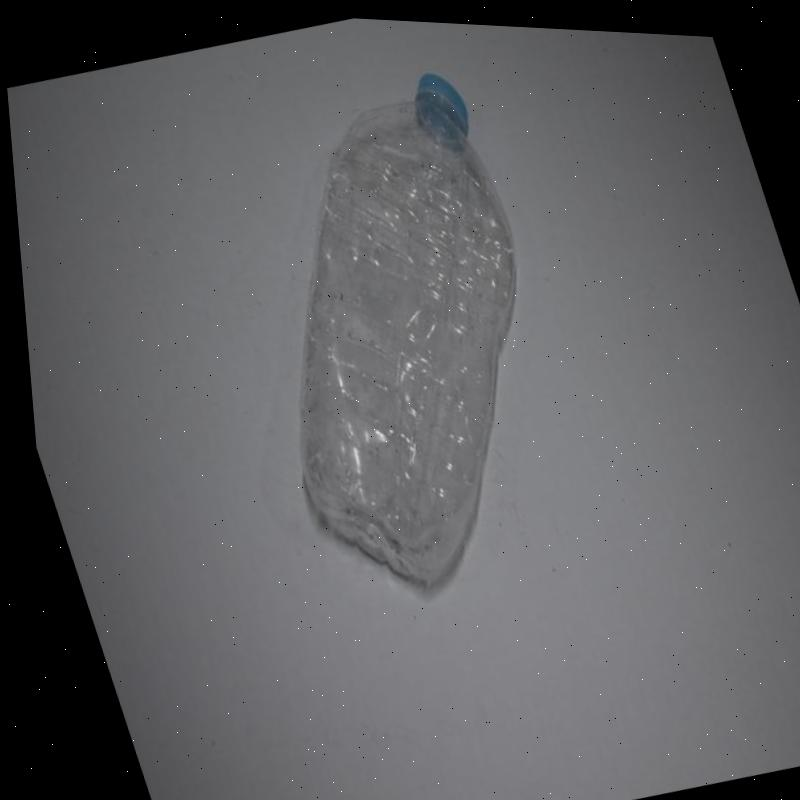botella: (177, 46, 615, 616)
